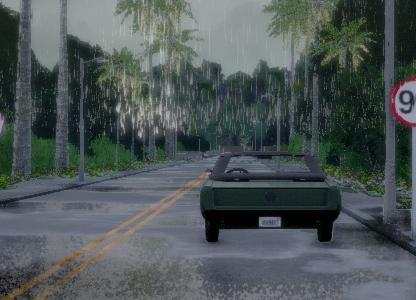Speed_90: (388, 74, 416, 128)
